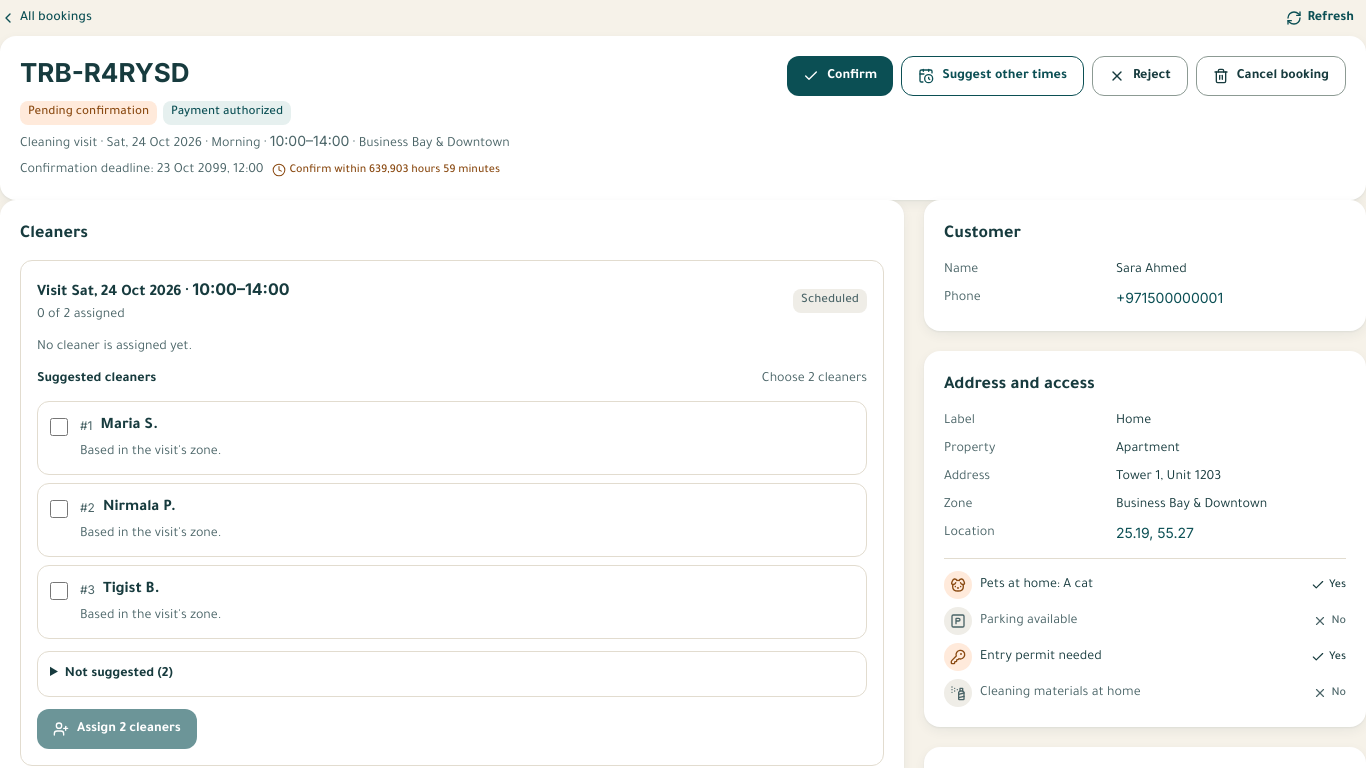
Test: A03 booking actions › confirm: “the bank did not answer” (502) keeps the dialog and retries with the same Idempotency-Key
The image size is (1366, 768).
Step 1. Click the button "Confirm" → (840, 76), box x1=787 y1=56 x2=893 y2=96
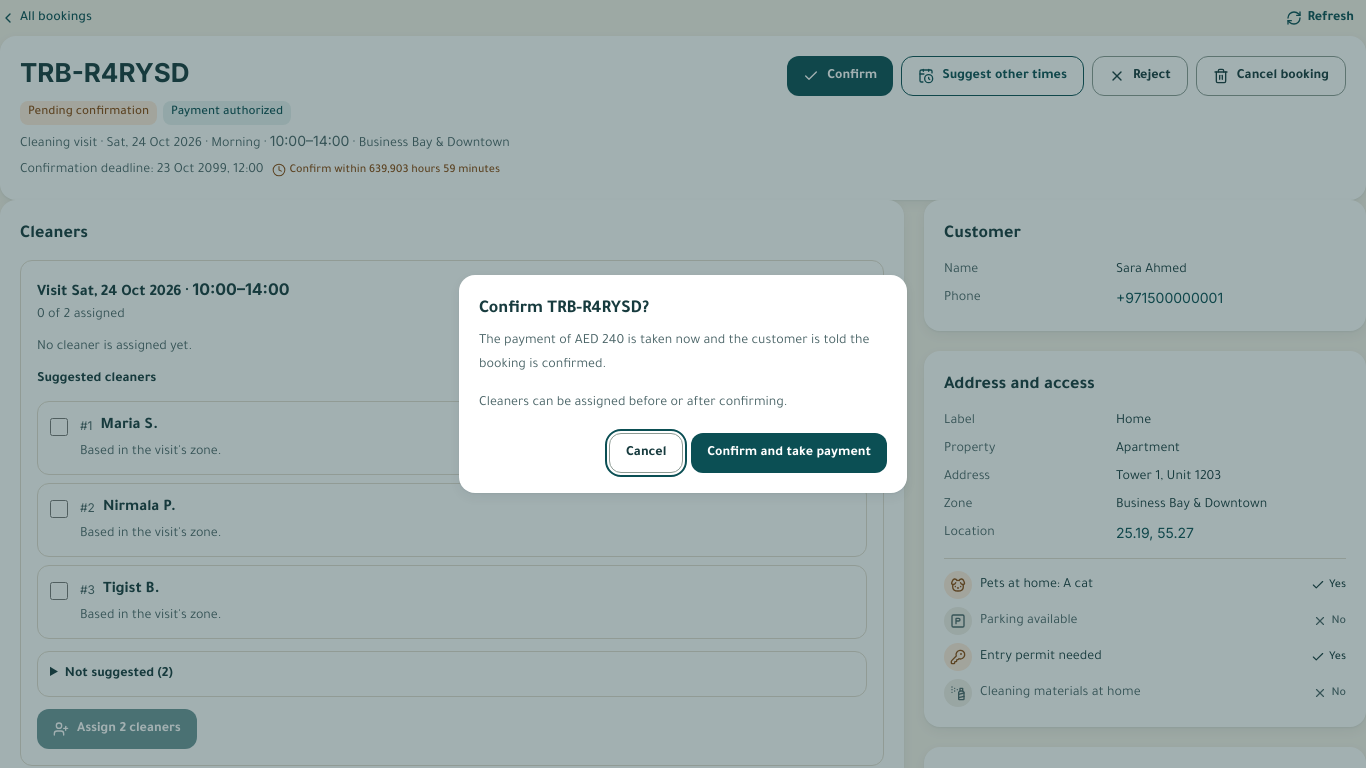
Now the dialog "Confirm TRB-R4RYSD?" shows "The payment of AED 240 is taken now", box x1=479 y1=334 x2=869 y2=372
Step 2. Click the button "Confirm and take payment" → (789, 453), box x1=691 y1=433 x2=887 y2=473
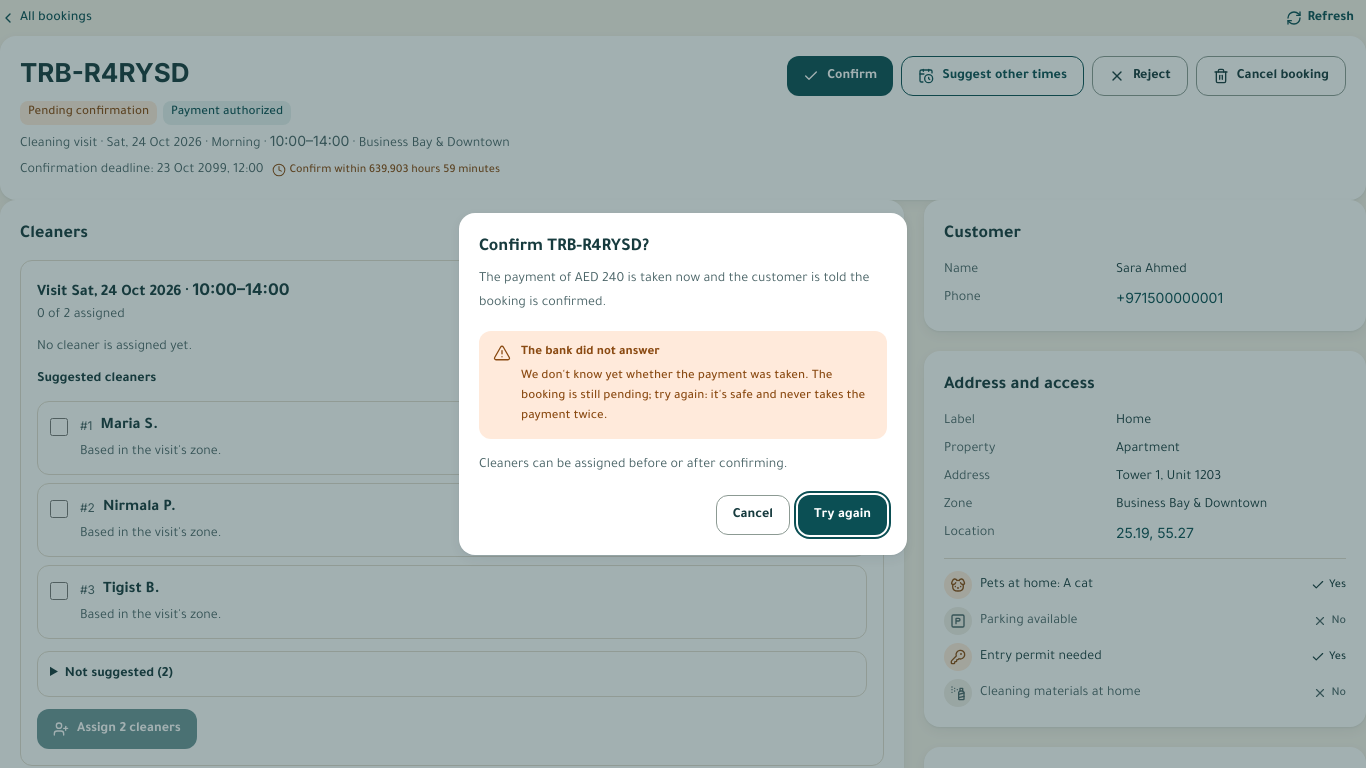
Now the text "The bank did not answer" is shown, box x1=521 y1=346 x2=660 y2=359
Step 3. Click the button "Try again" → (842, 515), box x1=798 y1=495 x2=887 y2=535
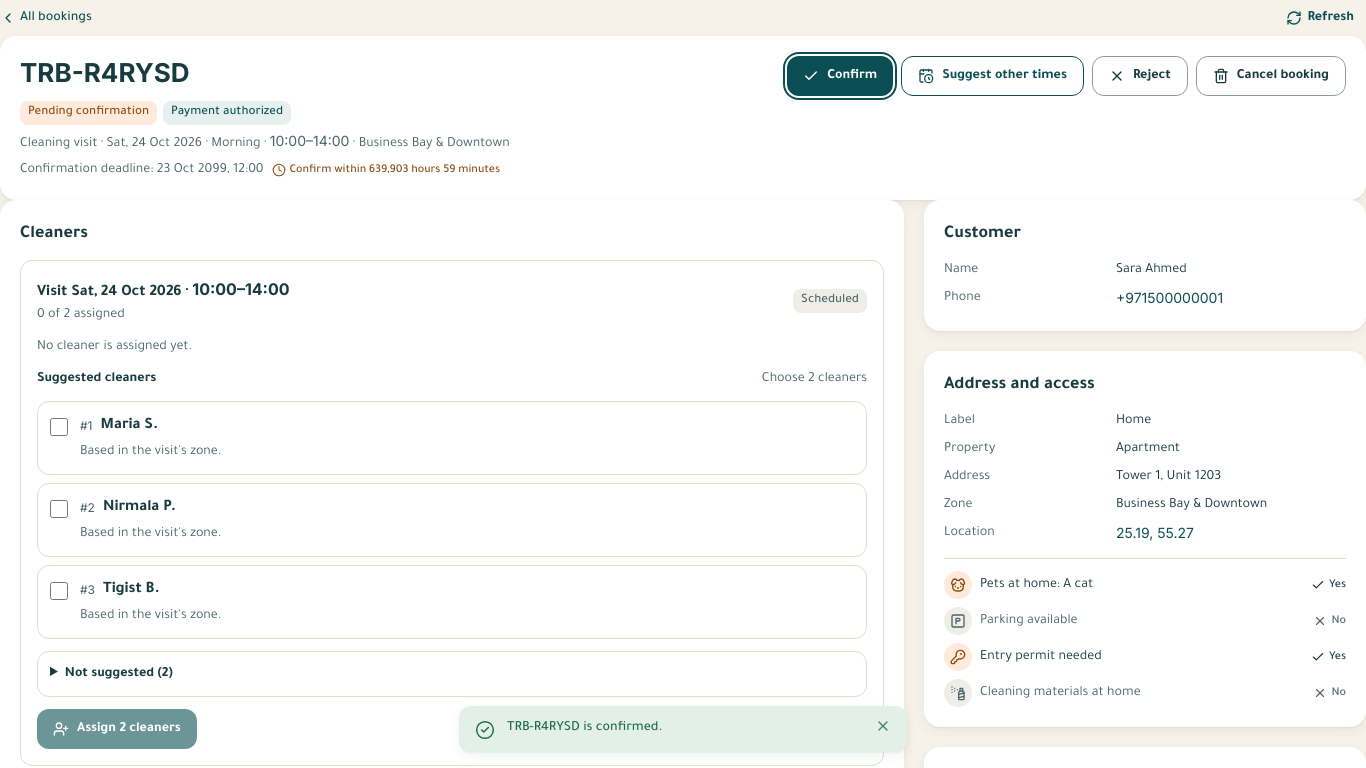
Now the text "TRB-R4RYSD is confirmed." is shown, box x1=507 y1=721 x2=662 y2=735
Now the dialog is gone
